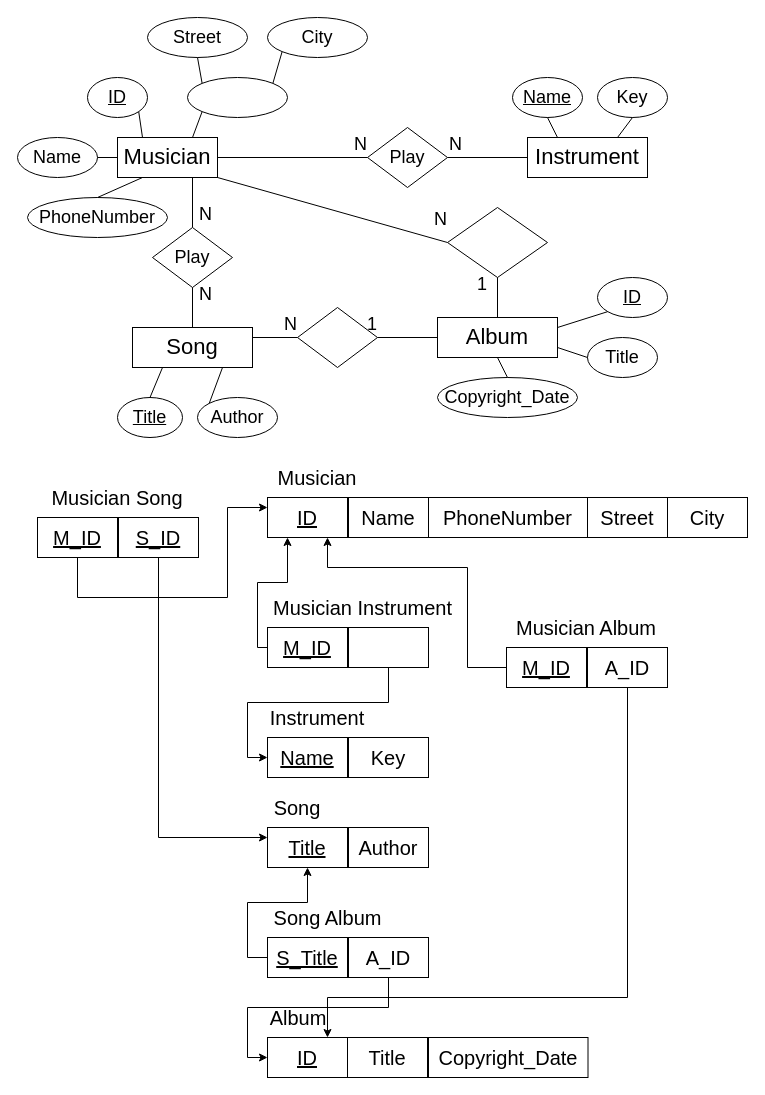
Image size: 765x1095. Some labels were removed from this diagram. The shapes that lost their labels are listed below. From the top down, each one's box as (x1, y1, x2, y2) in pixels, then its label:
(186, 76, 288, 118): Address
(446, 206, 548, 278): Produce
(296, 306, 378, 368): Has
(348, 626, 428, 668): I_Name
